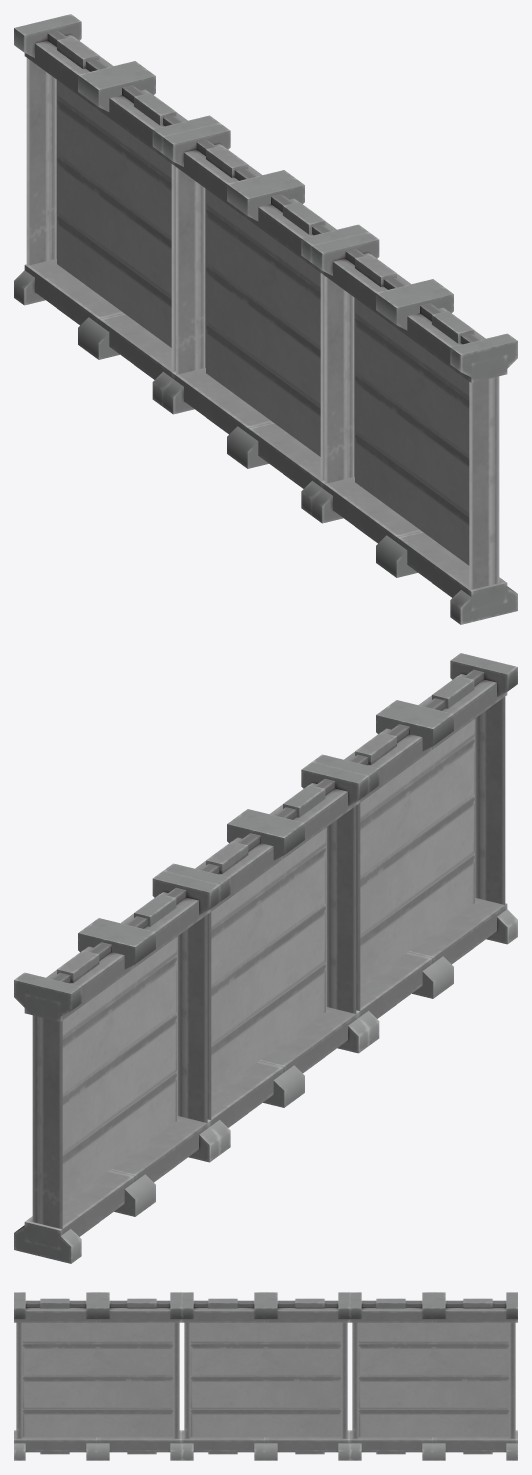
File: Pfb_JALB_WallPart2_Line__38.fbx
3 renders of one model, top to bottom at view 1: azimuth 30°, elevation 25°; view 2: azimuth 150°, elevation 25°; view 3: azimuth 270°, elevation 25°, orthographic. The views are drawn at different scales.
Visible parts, largest first — view 1: MAT_Roof; view 2: MAT_Roof; view 3: MAT_Roof.
Boxes of the visible parts, x1,y1,x2,y2 form: MAT_Roof: (14, 14, 517, 624); MAT_Roof: (14, 653, 517, 1263); MAT_Roof: (14, 1292, 517, 1460).
Size of the model in its own units: 0.8873 by 4 by 12.
1 material, 1 textured.
